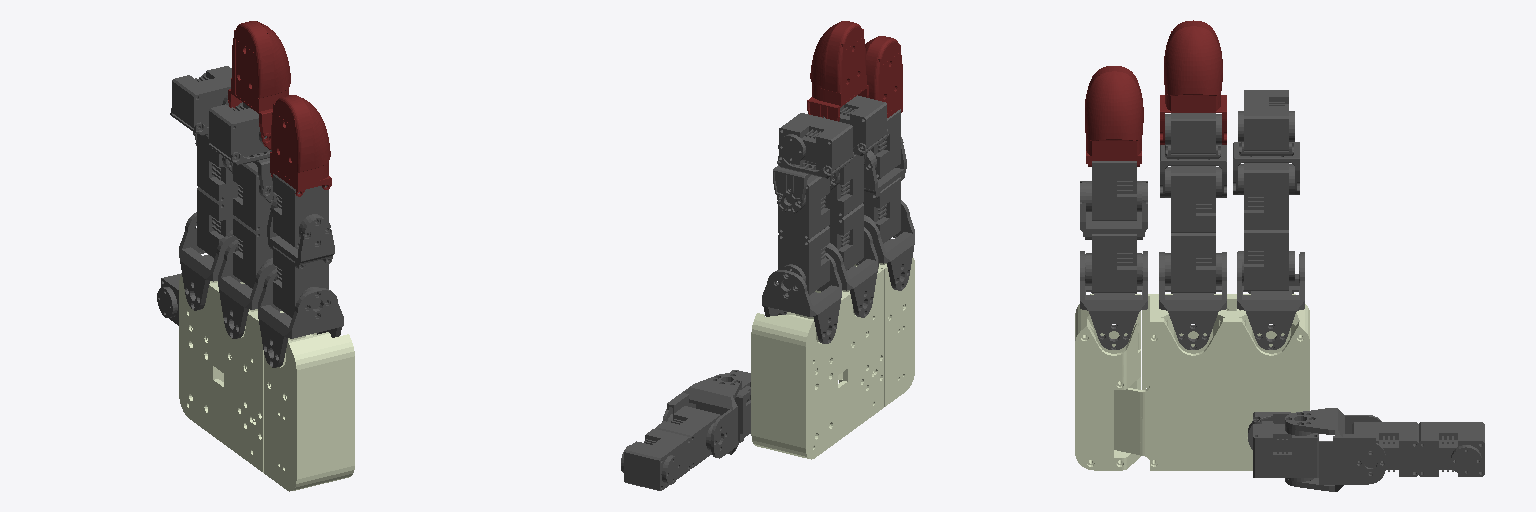
robot.urdf — gx4m:
<?xml version="1.0" encoding="utf-8"?>
<!-- This URDF was automatically created by SolidWorks to URDF Exporter! Originally created by Stephen Brawner (brawner@gmail.com) 
     Commit Version: 1.6.0-4-g7f85cfe  Build Version: 1.6.7995.38578
     For more information, please see http://wiki.ros.org/sw_urdf_exporter -->
<robot
  name="gx4m">
  <link
    name="base_link">
    <inertial>
      <origin
        xyz="-0.00153440405335238 0.0204382468703427 0.0367951456117559"
        rpy="0 0 0" />
      <mass
        value="0.0818018074556594" />
      <inertia
        ixx="0.000114084207970672"
        ixy="-2.10341508190003E-06"
        ixz="1.39209536319149E-06"
        iyy="6.12101513711208E-05"
        iyz="1.90786050719155E-06"
        izz="6.3128880941804E-05" />
    </inertial>
    <visual>
      <origin
        xyz="0 0 0"
        rpy="0 0 0" />
      <geometry>
        <mesh
          filename="meshes/base_link.STL" />
      </geometry>
      <material
        name="gray">
        <color
          rgba="0.885 0.915 0.8 1" />
      </material>
    </visual>
    <collision>
      <origin
        xyz="0 0 0"
        rpy="0 0 0" />
      <geometry>
        <mesh
          filename="meshes/base_link.STL" />
      </geometry>
    </collision>
  </link>
  <link
    name="plam_link" />
  <joint
    name="base_to_plam"
    type="fixed">
    <origin
      xyz="0. 0.0 0.0"
      rpy="1.57 0 1.57" />
    <parent
      link="base_link" />
    <child
      link="plam_link" />
  </joint>
  <link
    name="link1">
    <inertial>
      <origin
        xyz="0.0066997555855992 -0.00029707734467572 0.0157715034835529"
        rpy="0 0 0" />
      <mass
        value="0.0221845886807471" />
      <inertia
        ixx="1.75893076006865E-06"
        ixy="-9.18341864091065E-09"
        ixz="-6.4644354183328E-08"
        iyy="2.65182698275462E-06"
        iyz="1.75974720130724E-08"
        izz="3.2896829484082E-06" />
    </inertial>
    <visual>
      <origin
        xyz="0 0 0"
        rpy="0 0 0" />
      <geometry>
        <mesh
          filename="meshes/link1.STL" />
      </geometry>
      <material
        name="gray">
        <color
          rgba="0.4 0.4 0.4 1" />
      </material>
    </visual>
    <collision>
      <origin
        xyz="0 0 0"
        rpy="0 0 0" />
      <geometry>
        <mesh
          filename="meshes/link1.STL" />
      </geometry>
    </collision>
  </link>
  <joint
    name="joint1"
    type="revolute">
    <origin
      xyz="0.01525 0.040316 0.0202"
      rpy="1.5708 0 1.5708" />
    <parent
      link="base_link" />
    <child
      link="link1" />
    <axis
      xyz="0 0 1" />
    <limit
      lower="0"
      upper="1.57"
      effort="6"
      velocity="6" />
  </joint>
  <link
    name="link2">
    <inertial>
      <origin
        xyz="0.0179115845068282 0.00156014337581842 0.017229049195138"
        rpy="0 0 0" />
      <mass
        value="0.00726969492362233" />
      <inertia
        ixx="1.95118399965334E-06"
        ixy="5.56347572713684E-09"
        ixz="3.61427722386111E-08"
        iyy="1.8625109956516E-06"
        iyz="-1.38118146214014E-08"
        izz="1.64196249089385E-06" />
    </inertial>
    <visual>
      <origin
        xyz="0 0 0"
        rpy="0 0 0" />
      <geometry>
        <mesh
          filename="meshes/link2.STL" />
      </geometry>
      <material
        name="gray">
        <color
          rgba="0.4 0.4 0.4 1" />
      </material>
    </visual>
    <collision>
      <origin
        xyz="0 0 0"
        rpy="0 0 0" />
      <geometry>
        <mesh
          filename="meshes/link2.STL" />
      </geometry>
    </collision>
  </link>
  <joint
    name="joint2"
    type="revolute">
    <origin
      xyz="0.015 0.0175 0.02"
      rpy="1.5708 0 0" />
    <parent
      link="link1" />
    <child
      link="link2" />
    <axis
      xyz="0 0 1" />
    <limit
      lower="0"
      upper="2.1"
      effort="6"
      velocity="6" />
  </joint>
  <link
    name="link3">
    <inertial>
      <origin
        xyz="0.0245 -3.81639164714898E-17 -0.0170100523350374"
        rpy="0 0 0" />
      <mass
        value="0.0318397860116349" />
      <inertia
        ixx="2.63362247826917E-06"
        ixy="-1.41560414666517E-21"
        ixz="-2.81241408268029E-21"
        iyy="4.761229595298E-06"
        iyz="-1.41473845417061E-21"
        izz="4.05277731724929E-06" />
    </inertial>
    <visual>
      <origin
        xyz="0 0 0"
        rpy="0 0 0" />
      <geometry>
        <mesh
          filename="meshes/link3.STL" />
      </geometry>
      <material
        name="gray">
        <color
          rgba="0.4 0.4 0.4 1" />
      </material>
    </visual>
    <collision>
      <origin
        xyz="0 0 0"
        rpy="0 0 0" />
      <geometry>
        <mesh
          filename="meshes/link3.STL" />
      </geometry>
    </collision>
  </link>
  <joint
    name="joint3"
    type="revolute">
    <origin
      xyz="0.036 0.0165 0.0175"
      rpy="-1.5708 0 0" />
    <parent
      link="link2" />
    <child
      link="link3" />
    <axis
      xyz="0 0 1" />
    <limit
      lower="0"
      upper="1.57"
      effort="6"
      velocity="6" />
  </joint>
  <link
    name="link4">
    <inertial>
      <origin
        xyz="0.0331932699918128 0.00120000921448157 -0.0173091510596473"
        rpy="0 0 0" />
      <mass
        value="0.016387902192676" />
      <inertia
        ixx="1.67397373857767E-06"
        ixy="8.08318528720868E-08"
        ixz="-2.79692097132294E-09"
        iyy="2.6481586764993E-06"
        iyz="-1.90394065537757E-10"
        izz="1.49181880126737E-06" />
    </inertial>
    <visual>
      <origin
        xyz="0 0 0"
        rpy="0 0 0" />
      <geometry>
        <mesh
          filename="meshes/link4.STL" />
      </geometry>
      <material
        name="red">
        <color
          rgba="0.5 0.2 0.2 1" />
      </material>
    </visual>
    <collision>
      <origin
        xyz="0 0 0"
        rpy="0 0 0" />
      <geometry>
        <mesh
          filename="meshes/link4.STL" />
      </geometry>
    </collision>
  </link>
  <joint
    name="joint4"
    type="revolute">
    <origin
      xyz="0.049 0 0.0006"
      rpy="0 0 0" />
    <parent
      link="link3" />
    <child
      link="link4" />
    <axis
      xyz="0 0 1" />
    <limit
      lower="0"
      upper="1.57"
      effort="6"
      velocity="6" />
  </joint>
  <link
    name="link5">
    <inertial>
      <origin
        xyz="-1.47798440153224E-15 0.0165783539824644 -0.0174999999998945"
        rpy="0 0 0" />
      <mass
        value="0.00760225553216866" />
      <inertia
        ixx="1.74302925162853E-06"
        ixy="-1.22670925981893E-21"
        ixz="-2.52031592889091E-22"
        iyy="2.149096590646E-06"
        iyz="-1.70567098304039E-18"
        izz="1.65006176097987E-06" />
    </inertial>
    <visual>
      <origin
        xyz="0 0 0"
        rpy="0 0 0" />
      <geometry>
        <mesh
          filename="meshes/link5.STL" />
      </geometry>
      <material
        name="gray">
        <color
          rgba="0.4 0.4 0.4 1" />
      </material>
    </visual>
    <collision>
      <origin
        xyz="0 0 0"
        rpy="0 0 0" />
      <geometry>
        <mesh
          filename="meshes/link5.STL" />
      </geometry>
    </collision>
  </link>
  <joint
    name="joint5"
    type="revolute">
    <origin
      xyz="0.01425 0.040216 0.0745"
      rpy="1.5708 0 1.5708" />
    <parent
      link="base_link" />
    <child
      link="link5" />
    <axis
      xyz="0 0 -1" />
    <limit
      lower="-0.25"
      upper="0.25"
      effort="6"
      velocity="6" />
  </joint>
  <link
    name="link6">
    <inertial>
      <origin
        xyz="0.026005532403365 3.46944695195361E-17 -0.0195473220227265"
        rpy="0 0 0" />
      <mass
        value="0.0318397860116349" />
      <inertia
        ixx="2.63362247826917E-06"
        ixy="3.04789527147794E-22"
        ixz="3.07080964375579E-21"
        iyy="4.761229595298E-06"
        iyz="-2.38567529531903E-22"
        izz="4.05277731724929E-06" />
    </inertial>
    <visual>
      <origin
        xyz="0 0 0"
        rpy="0 0 0" />
      <geometry>
        <mesh
          filename="meshes/link6.STL" />
      </geometry>
      <material
        name="gray">
        <color
          rgba="0.4 0.4 0.4 1" />
      </material>
    </visual>
    <collision>
      <origin
        xyz="0 0 0"
        rpy="0 0 0" />
      <geometry>
        <mesh
          filename="meshes/link6.STL" />
      </geometry>
    </collision>
  </link>
  <joint
    name="joint6"
    type="revolute">
    <origin
      xyz="0.0175 0.03 -0.0175"
      rpy="1.5708 0 1.5708" />
    <parent
      link="link5" />
    <child
      link="link6" />
    <axis
      xyz="0 0 1" />
    <limit
      lower="0"
      upper="1.57"
      effort="6"
      velocity="6" />
  </joint>
  <link
    name="link7">
    <inertial>
      <origin
        xyz="0.0282145159467919 -0.00608650480771861 -0.0238462603891481"
        rpy="0 0 0" />
      <mass
        value="0.0201335995475439" />
      <inertia
        ixx="3.23294735024172E-06"
        ixy="6.39217838619289E-15"
        ixz="-3.29770569627498E-16"
        iyy="2.02956034885754E-06"
        iyz="-1.17278782158689E-08"
        izz="2.42383950885394E-06" />
    </inertial>
    <visual>
      <origin
        xyz="0 0 0"
        rpy="0 0 0" />
      <geometry>
        <mesh
          filename="meshes/link7.STL" />
      </geometry>
      <material
        name="gray">
        <color
          rgba="0.4 0.4 0.4 1" />
      </material>
    </visual>
    <collision>
      <origin
        xyz="0 0 0"
        rpy="0 0 0" />
      <geometry>
        <mesh
          filename="meshes/link7.STL" />
      </geometry>
    </collision>
  </link>
  <joint
    name="joint7"
    type="revolute">
    <origin
      xyz="0.048857 0 0.0037437"
      rpy="0 0 0" />
    <parent
      link="link6" />
    <child
      link="link7" />
    <axis
      xyz="0 0 1" />
    <limit
      lower="0"
      upper="1.57"
      effort="6"
      velocity="6" />
  </joint>
  <link
    name="link8">
    <inertial>
      <origin
        xyz="0.0331932699918109 0.00120000921448189 -0.0173091510596482"
        rpy="0 0 0" />
      <mass
        value="0.0163879021926749" />
      <inertia
        ixx="1.6739737385777E-06"
        ixy="8.08318528720423E-08"
        ixz="-2.79692097121936E-09"
        iyy="2.64815867649921E-06"
        iyz="-1.90394065573125E-10"
        izz="1.49181880126722E-06" />
    </inertial>
    <visual>
      <origin
        xyz="0 0 0"
        rpy="0 0 0" />
      <geometry>
        <mesh
          filename="meshes/link8.STL" />
      </geometry>
      <material
        name="red">
        <color
          rgba="0.5 0.2 0.2 1" />
      </material>
    </visual>
    <collision>
      <origin
        xyz="0 0 0"
        rpy="0 0 0" />
      <geometry>
        <mesh
          filename="meshes/link8.STL" />
      </geometry>
    </collision>
  </link>
  <joint
    name="joint8"
    type="revolute">
    <origin
      xyz="0.031648 0 -0.0063011"
      rpy="0 0 0" />
    <parent
      link="link7" />
    <child
      link="link8" />
    <axis
      xyz="0 0 1" />
    <limit
      lower="0"
      upper="1.57"
      effort="6"
      velocity="6" />
  </joint>
  <link
    name="link9">
    <inertial>
      <origin
        xyz="-3.19189119579733E-16 0.0165783539824642 -0.0174999999998945"
        rpy="0 0 0" />
      <mass
        value="0.00760225553216863" />
      <inertia
        ixx="1.74302925162852E-06"
        ixy="-3.3775527886409E-21"
        ixz="-8.40105309342424E-23"
        iyy="2.14909659064599E-06"
        iyz="-1.70509942305582E-18"
        izz="1.65006176097987E-06" />
    </inertial>
    <visual>
      <origin
        xyz="0 0 0"
        rpy="0 0 0" />
      <geometry>
        <mesh
          filename="meshes/link9.STL" />
      </geometry>
      <material
        name="gray">
        <color
          rgba="0.4 0.4 0.4 1" />
      </material>
    </visual>
    <collision>
      <origin
        xyz="0 0 0"
        rpy="0 0 0" />
      <geometry>
        <mesh
          filename="meshes/link9.STL" />
      </geometry>
    </collision>
  </link>
  <joint
    name="joint9"
    type="revolute">
    <origin
      xyz="0.01425 0.0003162 0.0745"
      rpy="1.5708 0 1.5708" />
    <parent
      link="base_link" />
    <child
      link="link9" />
    <axis
      xyz="0 0 -1" />
    <limit
      lower="-0.25"
      upper="0.25"
      effort="6"
      velocity="6" />
  </joint>
  <link
    name="link10">
    <inertial>
      <origin
        xyz="0.0245000000000004 1.45716771982052E-16 -0.0178100523350378"
        rpy="0 0 0" />
      <mass
        value="0.0318397860116349" />
      <inertia
        ixx="2.63362247826917E-06"
        ixy="-3.65046700395299E-22"
        ixz="-3.57737359392566E-21"
        iyy="4.761229595298E-06"
        iyz="-3.16576765693066E-22"
        izz="4.05277731724929E-06" />
    </inertial>
    <visual>
      <origin
        xyz="0 0 0"
        rpy="0 0 0" />
      <geometry>
        <mesh
          filename="meshes/link10.STL" />
      </geometry>
      <material
        name="gray">
        <color
          rgba="0.4 0.4 0.4 1" />
      </material>
    </visual>
    <collision>
      <origin
        xyz="0 0 0"
        rpy="0 0 0" />
      <geometry>
        <mesh
          filename="meshes/link10.STL" />
      </geometry>
    </collision>
  </link>
  <joint
    name="joint10"
    type="revolute">
    <origin
      xyz="0.0175 0.03 -0.0175"
      rpy="1.5708 0 1.5708" />
    <parent
      link="link9" />
    <child
      link="link10" />
    <axis
      xyz="0 0 1" />
    <limit
      lower="0"
      upper="1.57"
      effort="6"
      velocity="6" />
  </joint>
  <link
    name="link11">
    <inertial>
      <origin
        xyz="0.0265661686115251 -0.00608650480771836 -0.0175451623207457"
        rpy="0 0 0" />
      <mass
        value="0.0201335995475439" />
      <inertia
        ixx="3.23294735024172E-06"
        ixy="6.39217646654776E-15"
        ixz="-3.29772908938269E-16"
        iyy="2.02956034885754E-06"
        iyz="-1.17278782158697E-08"
        izz="2.42383950885394E-06" />
    </inertial>
    <visual>
      <origin
        xyz="0 0 0"
        rpy="0 0 0" />
      <geometry>
        <mesh
          filename="meshes/link11.STL" />
      </geometry>
      <material
        name="gray">
        <color
          rgba="0.4 0.4 0.4 1" />
      </material>
    </visual>
    <collision>
      <origin
        xyz="0 0 0"
        rpy="0 0 0" />
      <geometry>
        <mesh
          filename="meshes/link11.STL" />
      </geometry>
    </collision>
  </link>
  <joint
    name="joint11"
    type="revolute">
    <origin
      xyz="0.049 0 -0.0002"
      rpy="0 0 0" />
    <parent
      link="link10" />
    <child
      link="link11" />
    <axis
      xyz="0 0 1" />
    <limit
      lower="0"
      upper="1.57"
      effort="6"
      velocity="6" />
  </joint>
  <link
    name="link12">
    <inertial>
      <origin
        xyz="0.0331932699917742 0.00120000921448071 -0.017309151059671"
        rpy="0 0 0" />
      <mass
        value="0.0163879021926291" />
      <inertia
        ixx="1.67397373857621E-06"
        ixy="8.08318528702869E-08"
        ixz="-2.79692096717179E-09"
        iyy="2.64815867649318E-06"
        iyz="-1.90394067046421E-10"
        izz="1.49181880126158E-06" />
    </inertial>
    <visual>
      <origin
        xyz="0 0 0"
        rpy="0 0 0" />
      <geometry>
        <mesh
          filename="meshes/link12.STL" />
      </geometry>
      <material
        name="red">
        <color
          rgba="0.5 0.2 0.2 1" />
      </material>
    </visual>
    <collision>
      <origin
        xyz="0 0 0"
        rpy="0 0 0" />
      <geometry>
        <mesh
          filename="meshes/link12.STL" />
      </geometry>
    </collision>
  </link>
  <joint
    name="joint12"
    type="revolute">
    <origin
      xyz="0.03 0 0"
      rpy="0 0 0" />
    <parent
      link="link11" />
    <child
      link="link12" />
    <axis
      xyz="0 0 1" />
    <limit
      lower="0"
      upper="1.57"
      effort="6"
      velocity="6" />
  </joint>
  <link
    name="link13">
    <inertial>
      <origin
        xyz="0.0238883735922244 -0.00110660149279515 -0.00391256501422189"
        rpy="0 0 0" />
      <mass
        value="0.0312564718984817" />
      <inertia
        ixx="2.27794444218755E-05"
        ixy="-6.97892177127566E-07"
        ixz="-3.19326578448207E-07"
        iyy="2.4320308680919E-05"
        iyz="2.23781123044989E-07"
        izz="5.63765548393032E-06" />
    </inertial>
    <visual>
      <origin
        xyz="0 0 0"
        rpy="0 0 0" />
      <geometry>
        <mesh
          filename="meshes/link13.STL" />
      </geometry>
      <material
        name="gray">
        <color
          rgba="0.885 0.915 0.8 1" />
      </material>
    </visual>
    <collision>
      <origin
        xyz="0 0 0"
        rpy="0 0 0" />
      <geometry>
        <mesh
          filename="meshes/link13.STL" />
      </geometry>
    </collision>
  </link>
  <joint
    name="joint13"
    type="revolute">
    <origin
      xyz="-0.00125 -0.022916 0.042827"
      rpy="0 0 -1.5708" />
    <parent
      link="base_link" />
    <child
      link="link13" />
    <axis
      xyz="0 0 1" />
    <limit
      lower="0.0"
      upper="0.6"
      effort="6"
      velocity="6" />
  </joint>
  <link
    name="link14">
    <inertial>
      <origin
        xyz="-2.42861286636753E-17 0.0165783539824643 -0.0174999999998946"
        rpy="0 0 0" />
      <mass
        value="0.00760225553216864" />
      <inertia
        ixx="1.74302925162852E-06"
        ixy="-6.40372309789433E-22"
        ixz="-3.37253814288381E-23"
        iyy="2.14909659064599E-06"
        iyz="-1.70465686043282E-18"
        izz="1.65006176097987E-06" />
    </inertial>
    <visual>
      <origin
        xyz="0 0 0"
        rpy="0 0 0" />
      <geometry>
        <mesh
          filename="meshes/link14.STL" />
      </geometry>
      <material
        name="gray">
        <color
          rgba="0.4 0.4 0.4 1" />
      </material>
    </visual>
    <collision>
      <origin
        xyz="0 0 0"
        rpy="0 0 0" />
      <geometry>
        <mesh
          filename="meshes/link14.STL" />
      </geometry>
    </collision>
  </link>
  <joint
    name="joint14"
    type="revolute">
    <origin
      xyz="0.0174 0.0155 0.031686"
      rpy="1.5708 0 3.1416" />
    <parent
      link="link13" />
    <child
      link="link14" />
    <axis
      xyz="0 0 -1" />
    <limit
      lower="-0.25"
      upper="0.25"
      effort="6"
      velocity="6" />
  </joint>
  <link
    name="link15">
    <inertial>
      <origin
        xyz="0.0117628085789517 3.59295866843301E-07 -0.0177625717292357"
        rpy="0 0 0" />
      <mass
        value="0.0199876337854511" />
      <inertia
        ixx="2.14514551541092E-06"
        ixy="7.43688848953817E-12"
        ixz="1.03329953755503E-08"
        iyy="3.26871024245982E-06"
        iyz="-6.81380737062534E-14"
        izz="2.33955813011769E-06" />
    </inertial>
    <visual>
      <origin
        xyz="0 0 0"
        rpy="0 0 0" />
      <geometry>
        <mesh
          filename="meshes/link15.STL" />
      </geometry>
      <material
        name="gray">
        <color
          rgba="0.4 0.4 0.4 1" />
      </material>
    </visual>
    <collision>
      <origin
        xyz="0 0 0"
        rpy="0 0 0" />
      <geometry>
        <mesh
          filename="meshes/link15.STL" />
      </geometry>
    </collision>
  </link>
  <joint
    name="joint15"
    type="revolute">
    <origin
      xyz="0.0175 0.03 -0.0175"
      rpy="1.5708 0 1.5708" />
    <parent
      link="link14" />
    <child
      link="link15" />
    <axis
      xyz="0 0 1" />
    <limit
      lower="0"
      upper="1.57"
      effort="6"
      velocity="6" />
  </joint>
  <link
    name="link16">
    <inertial>
      <origin
        xyz="0.0268610359741967 0.000610769758179315 -0.0176576980963586"
        rpy="0 0 0" />
      <mass
        value="0.0321771179163385" />
      <inertia
        ixx="2.75960367328153E-06"
        ixy="8.17785651533107E-08"
        ixz="8.95758519187493E-09"
        iyy="4.63594955694168E-06"
        iyz="-2.21752900116192E-10"
        izz="3.36377095579654E-06" />
    </inertial>
    <visual>
      <origin
        xyz="0 0 0"
        rpy="0 0 0" />
      <geometry>
        <mesh
          filename="meshes/link16.STL" />
      </geometry>
      <material
        name="red">
        <color
          rgba="0.4 0.4 0.4 1" />
      </material>
    </visual>
    <collision>
      <origin
        xyz="0 0 0"
        rpy="0 0 0" />
      <geometry>
        <mesh
          filename="meshes/link16.STL" />
      </geometry>
    </collision>
  </link>
  <joint
    name="joint16"
    type="revolute">
    <origin
      xyz="0.041 0 0"
      rpy="0 0 0" />
    <parent
      link="link15" />
    <child
      link="link16" />
    <axis
      xyz="0 0 1" />
    <limit
      lower="0"
      upper="1.57"
      effort="6"
      velocity="6" />
  </joint>
  <link
    name="link17">
    <inertial>
      <origin
        xyz="0.0464333373456552 0.00120886625098581 -0.0175085051564728"
        rpy="0 0 0" />
      <mass
        value="0.0162572249105206" />
      <inertia
        ixx="1.44279243414689E-06"
        ixy="8.17785651533141E-08"
        ixz="-2.77029847111908E-09"
        iyy="2.25533475929257E-06"
        iyz="-2.21752900267788E-10"
        izz="1.33738229717186E-06" />
    </inertial>
    <visual>
      <origin
        xyz="0 0 0"
        rpy="0 0 0" />
      <geometry>
        <mesh
          filename="meshes/link17.STL" />
      </geometry>
      <material
        name="">
        <color
          rgba="0.5 0.2 0.2 1" />
      </material>
    </visual>
    <collision>
      <origin
        xyz="0 0 0"
        rpy="0 0 0" />
      <geometry>
        <mesh
          filename="meshes/link17.STL" />
      </geometry>
    </collision>
  </link>
  <joint
    name="joint17"
    type="fixed">
    <origin
      xyz="0 0 0"
      rpy="0 0 0" />
    <parent
      link="link16" />
    <child
      link="link17" />
    <axis
      xyz="0 0 0" />
  </joint>
  <link
    name="link18" />
  <joint
    name="joint18"
    type="fixed">
    <origin
      xyz="0.05 0 -0.02"
      rpy="0 1.57 0" />
    <parent
      link="link4" />
    <child
      link="link18" />
  </joint>
  <link
    name="link19" />
  <joint
    name="joint19"
    type="fixed">
    <origin
      xyz="0.05 0 -0.02"
      rpy="1.57 -1.57 1.57" />
    <parent
      link="link8" />
    <child
      link="link19" />
  </joint>
  <link
    name="link20" />
  <joint
    name="joint20"
    type="fixed">
    <origin
      xyz="0.05 0 -0.02"
      rpy="1.57 -1.57 1.57" />
    <parent
      link="link12" />
    <child
      link="link20" />
  </joint>
  <link
    name="link21" />
  <joint
    name="joint21"
    type="fixed">
    <origin
      xyz="0.06 0 -0.02"
      rpy="1.57 -1.57 1.57" />
    <parent
      link="link17" />
    <child
      link="link21" />
  </joint>
</robot>

--- What the picture shows (computed from the rendered views, not written in the file) ---
The picture shows the robot from 3 angles, left to right: view 1: azimuth 30°, elevation 25°; view 2: azimuth 150°, elevation 25°; view 3: azimuth 270°, elevation 25°; orthographic projection.
Model gx4m with 23 links and 22 joints (16 revolute, 6 fixed), rooted at base_link, posed every joint at zero.
Links seen in each view (by area): view 1: link13, base_link, link12, link17, link15, link14, link10, link6, link11, link7, link16, link5 (+2 smaller); view 2: base_link, link7, link3, link12, link6, link13, link5, link10, link2, link15, link17, link11 (+4 smaller); view 3: base_link, link13, link10, link6, link3, link12, link17, link2, link15, link7, link1, link11 (+4 smaller).
Boxes of the visible links, x1,y1,x2,y2 form: link13: [264, 332, 354, 491]; base_link: [179, 275, 316, 472]; link12: [228, 21, 290, 149]; link17: [270, 95, 331, 196]; link15: [267, 197, 334, 317]; link14: [258, 269, 343, 367]; link10: [233, 162, 274, 288]; link6: [197, 134, 239, 258]; link11: [207, 102, 276, 202]; link7: [170, 66, 231, 171]; link16: [273, 174, 328, 248]; link5: [179, 212, 236, 310]; base_link: [751, 266, 883, 459]; link7: [773, 113, 854, 213]; link3: [621, 406, 721, 490]; link12: [807, 21, 868, 121]; link6: [778, 175, 829, 295]; link13: [839, 258, 914, 406]; link5: [762, 253, 841, 343]; link10: [824, 155, 863, 270]; link2: [662, 373, 741, 458]; link15: [863, 137, 906, 243]; link17: [865, 36, 902, 117]; link11: [823, 95, 888, 189]; base_link: [1114, 294, 1309, 470]; link13: [1075, 294, 1140, 470]; link10: [1165, 166, 1221, 292]; link6: [1238, 163, 1294, 290]; link3: [1352, 422, 1484, 476]; link12: [1160, 20, 1226, 144]; link17: [1085, 66, 1143, 166]; link2: [1285, 408, 1385, 491]; link15: [1080, 181, 1147, 292]; link7: [1233, 90, 1299, 194]; link1: [1248, 412, 1318, 481]; link11: [1160, 113, 1226, 197].
Bounding box of the posed robot: 0.0795 × 0.2101 × 0.2413 m (x, y, z).
16 mesh visuals loaded from 18 distinct referenced files (16 binary STL); not drawn: 2 (reference not matched to a file when rendering).
